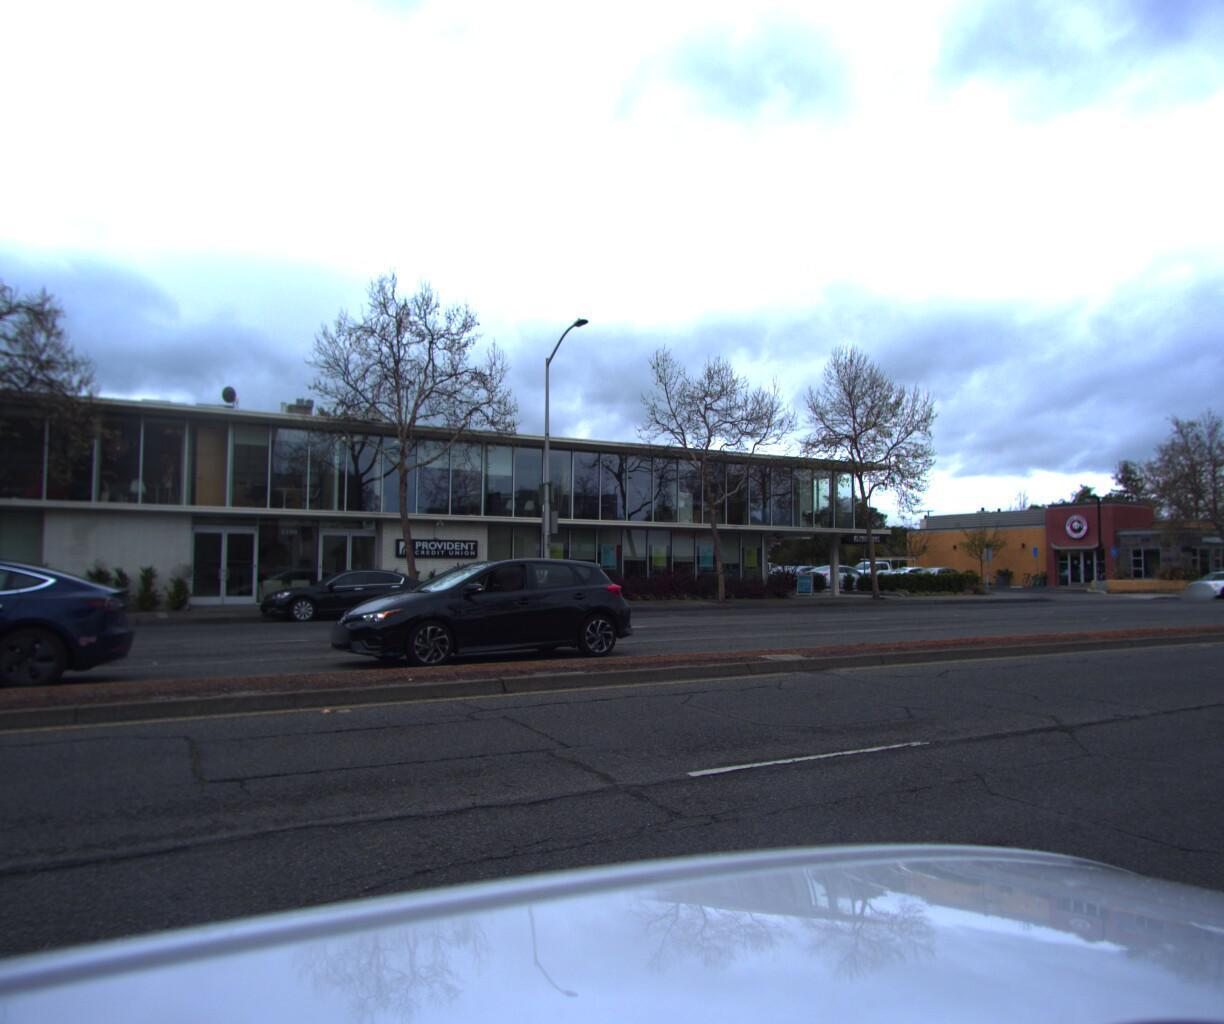car: (317, 564, 654, 704), (0, 541, 145, 722), (257, 574, 452, 643), (1175, 580, 1224, 614)
